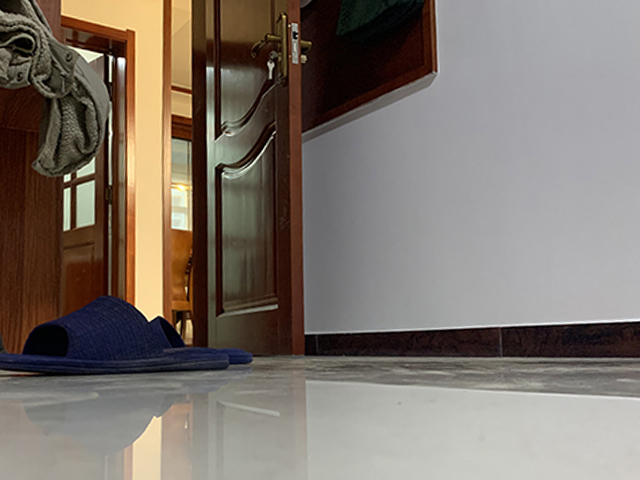slippers: (1, 294, 254, 377)
